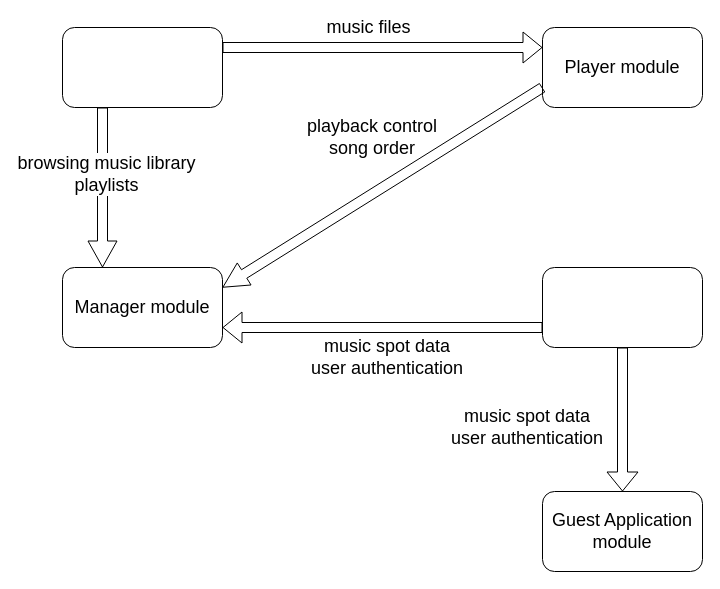
Some shapes in this 720 by 589 pixel diagram are drawn without their labels. The shapes that lost their labels are listed below. From the top down, each one's centre as x and y in pixels, then its label:
point (142, 67): Fileserver module
point (622, 307): Data Management module
